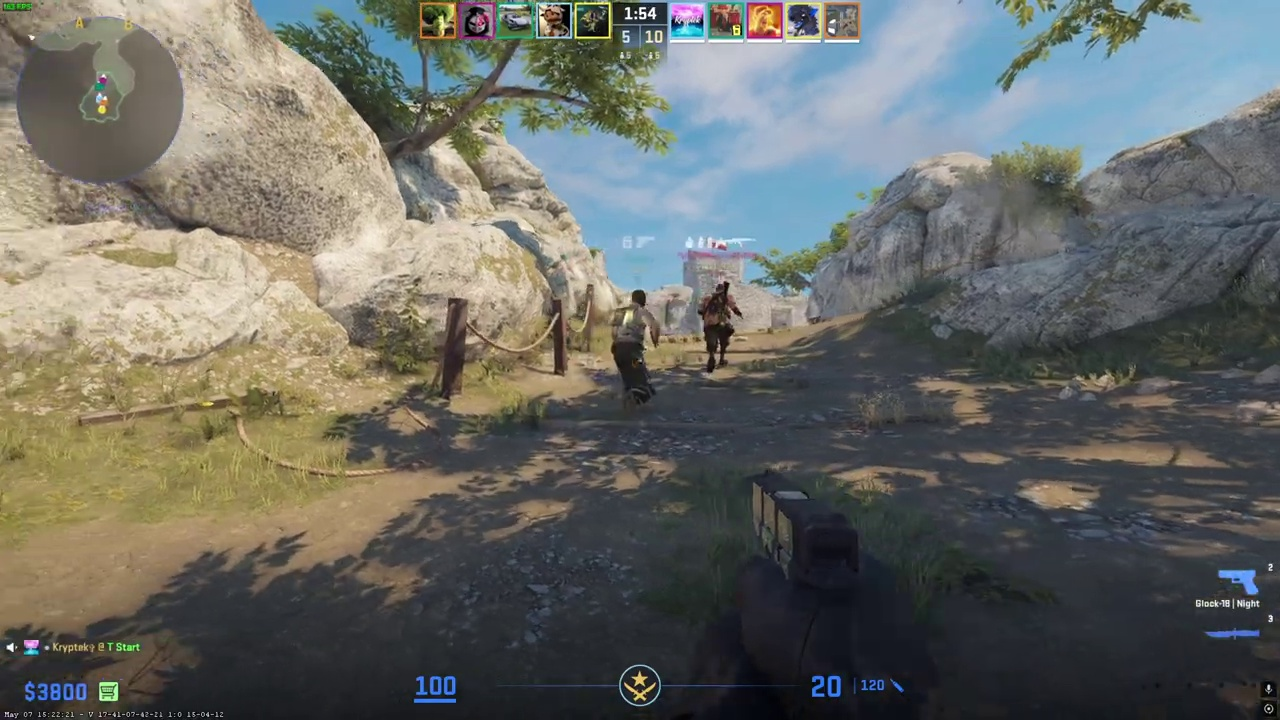Terrorist: (611, 289, 660, 412), (701, 283, 737, 373)
